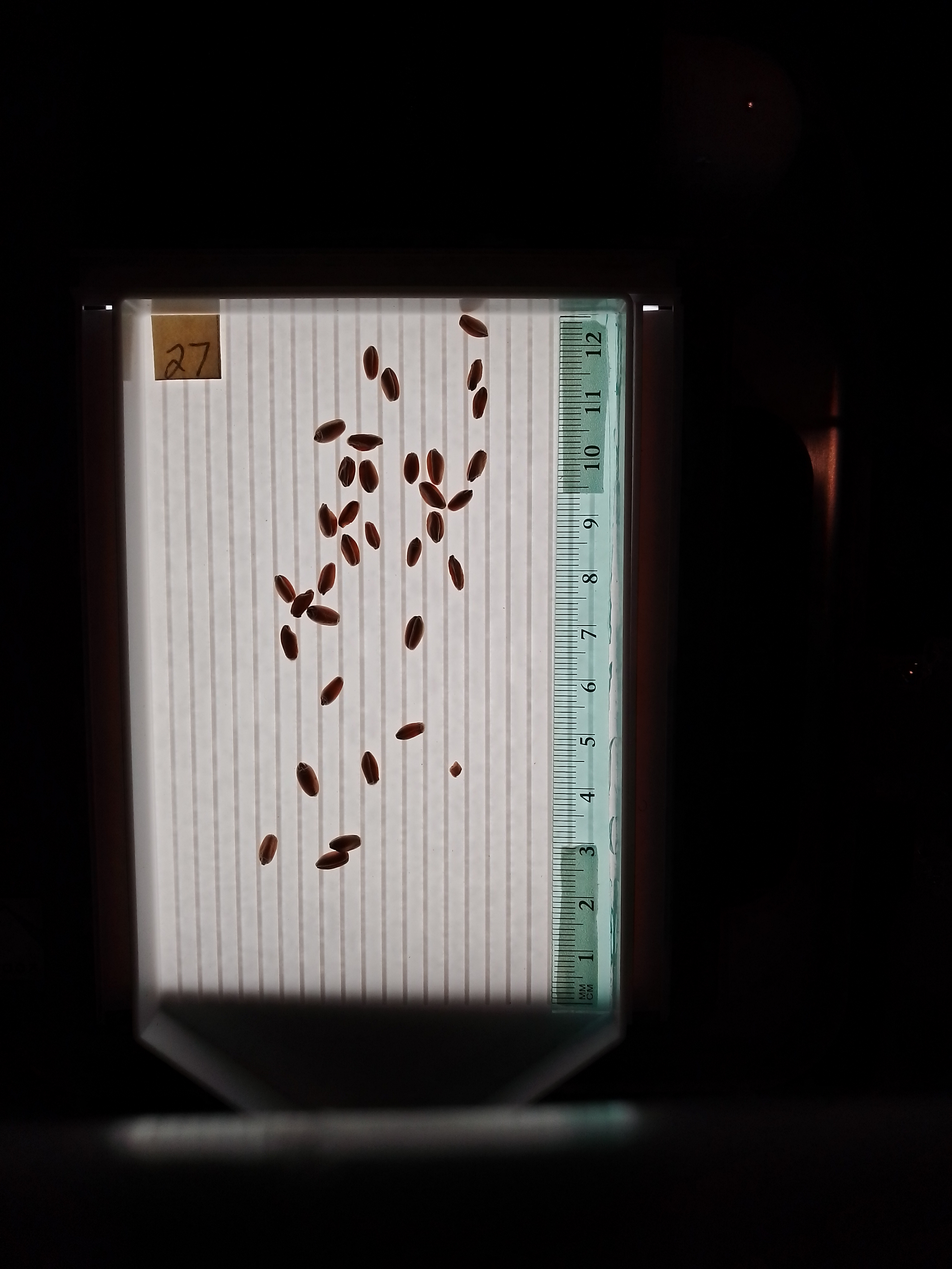seed mask: (314, 418, 345, 444), (297, 763, 320, 797), (419, 482, 446, 509), (466, 451, 488, 483), (460, 314, 488, 338), (404, 616, 424, 649), (359, 460, 379, 493), (308, 605, 339, 626), (427, 449, 445, 484), (349, 433, 382, 452), (381, 368, 400, 401), (321, 677, 343, 705), (361, 753, 380, 785), (341, 535, 360, 566), (281, 626, 298, 660), (317, 851, 349, 869), (291, 591, 313, 617), (275, 575, 296, 602), (319, 506, 337, 536), (259, 835, 277, 865), (448, 557, 464, 590), (363, 347, 379, 379), (318, 564, 335, 594), (427, 513, 444, 543), (396, 722, 424, 740), (339, 502, 359, 527), (339, 457, 356, 486), (449, 490, 472, 511), (468, 360, 483, 391), (403, 454, 419, 483), (473, 388, 488, 418), (406, 538, 422, 566), (365, 522, 380, 549)
